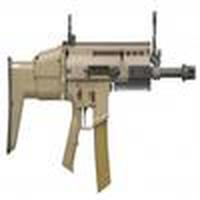gun: (6, 24, 192, 161)
